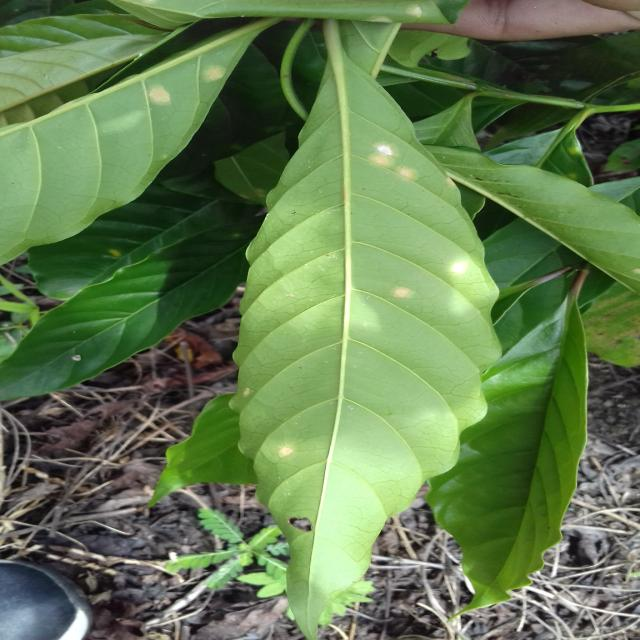Enfermedad-Roya: (236, 24, 503, 640)
